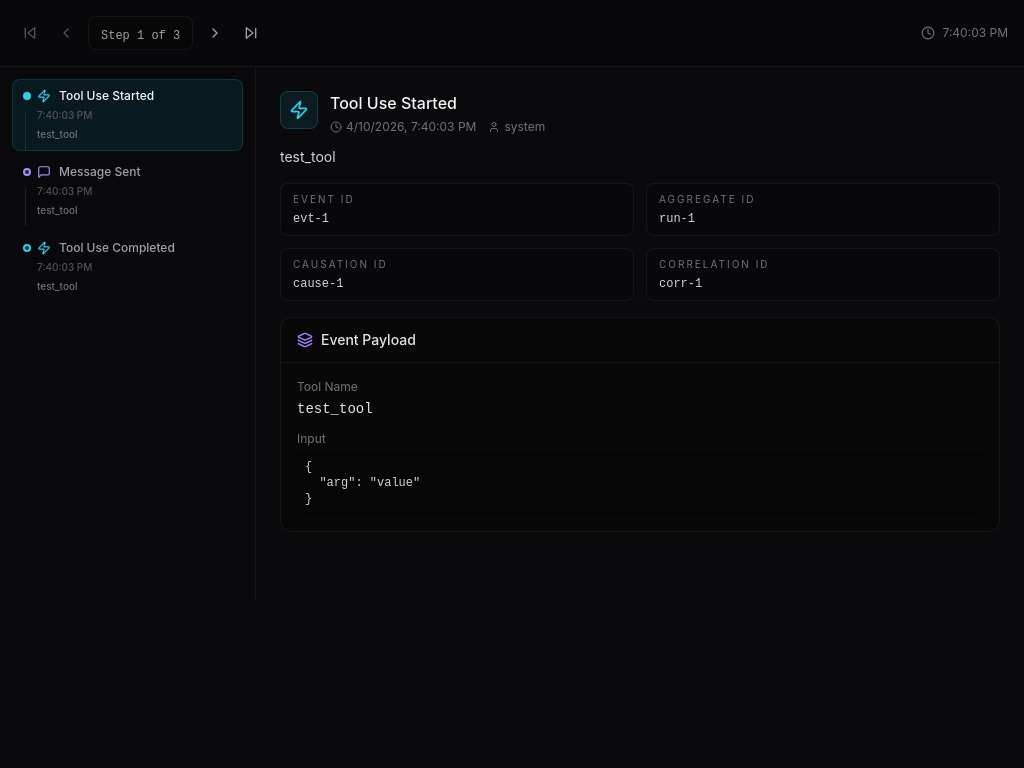
Scenario: RunReplayPanel › handles click on timeline node
The width and height of the screenshot is (1024, 768).
Expected: the text "Step 1 of 3" is shown, left=101, top=29, right=180, bottom=43
Click the button "Tool Use Completed 7:40:03 PM test_tool" at (128, 267), box left=12, top=231, right=243, bottom=303
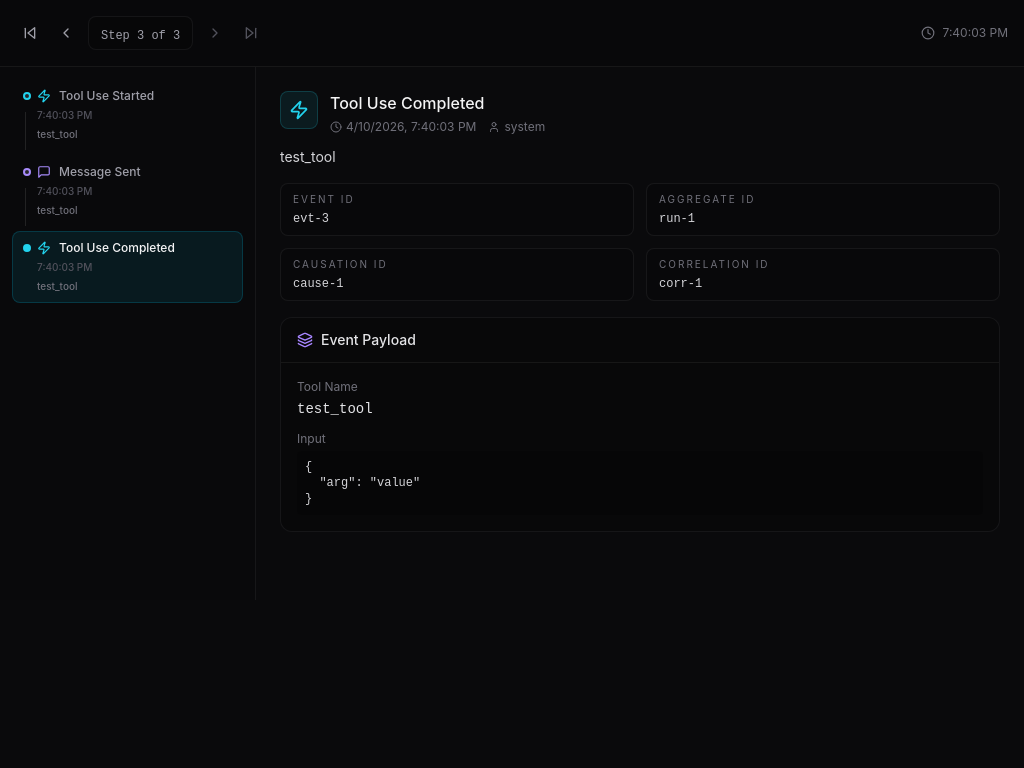
Expected: the text "Step 3 of 3" is shown, left=101, top=29, right=180, bottom=43
